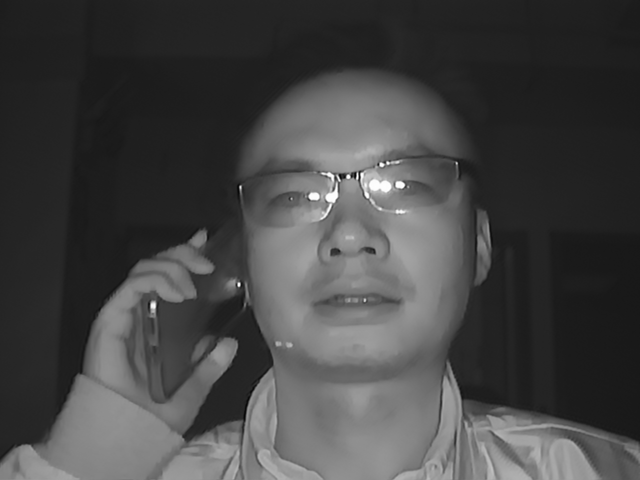hand: (93, 223, 233, 418)
